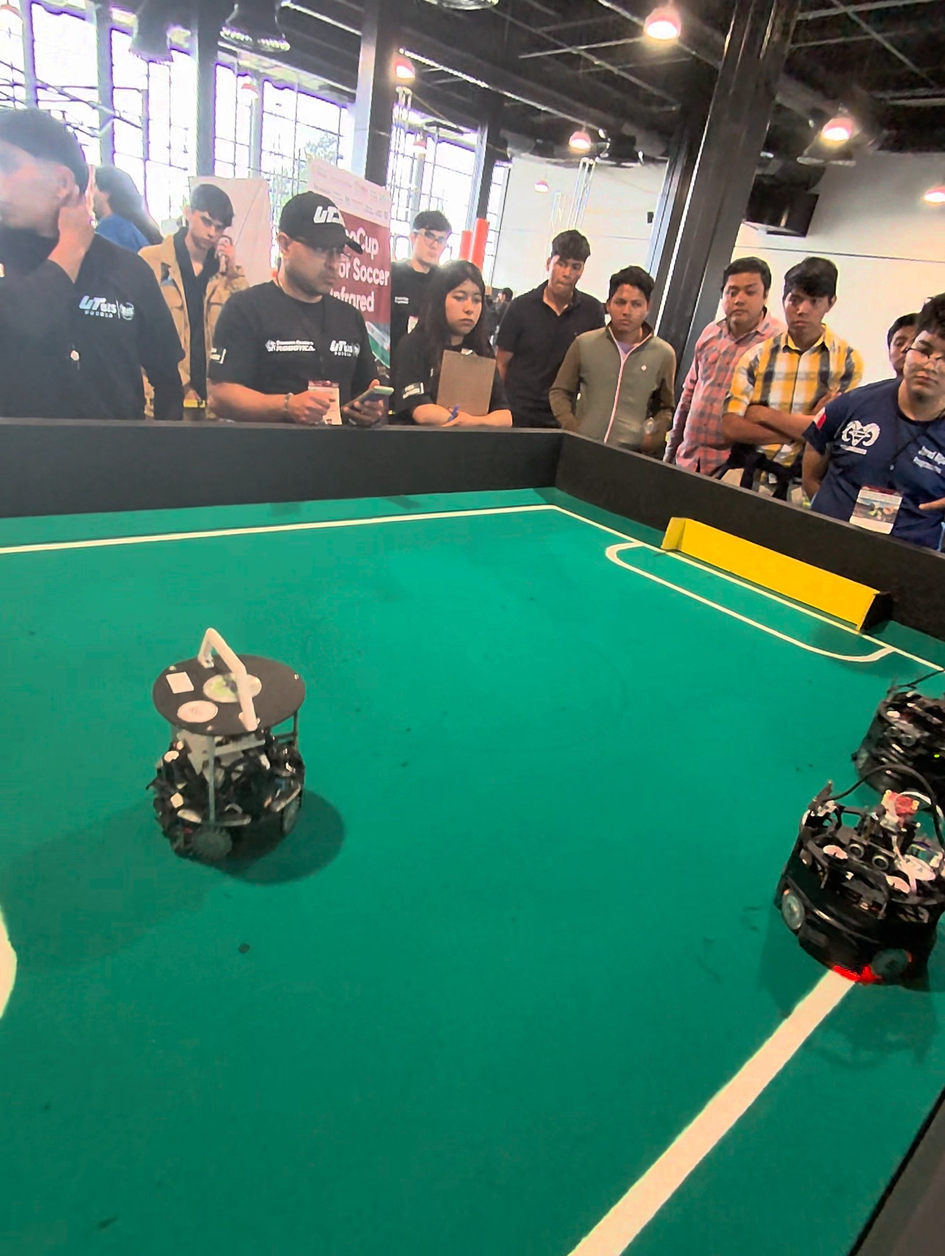Robot: (134, 616, 332, 883), (780, 757, 941, 1003), (849, 664, 945, 813)
